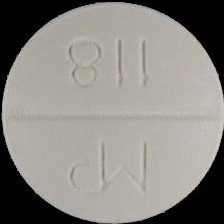53489-510: (0, 0, 224, 224)
